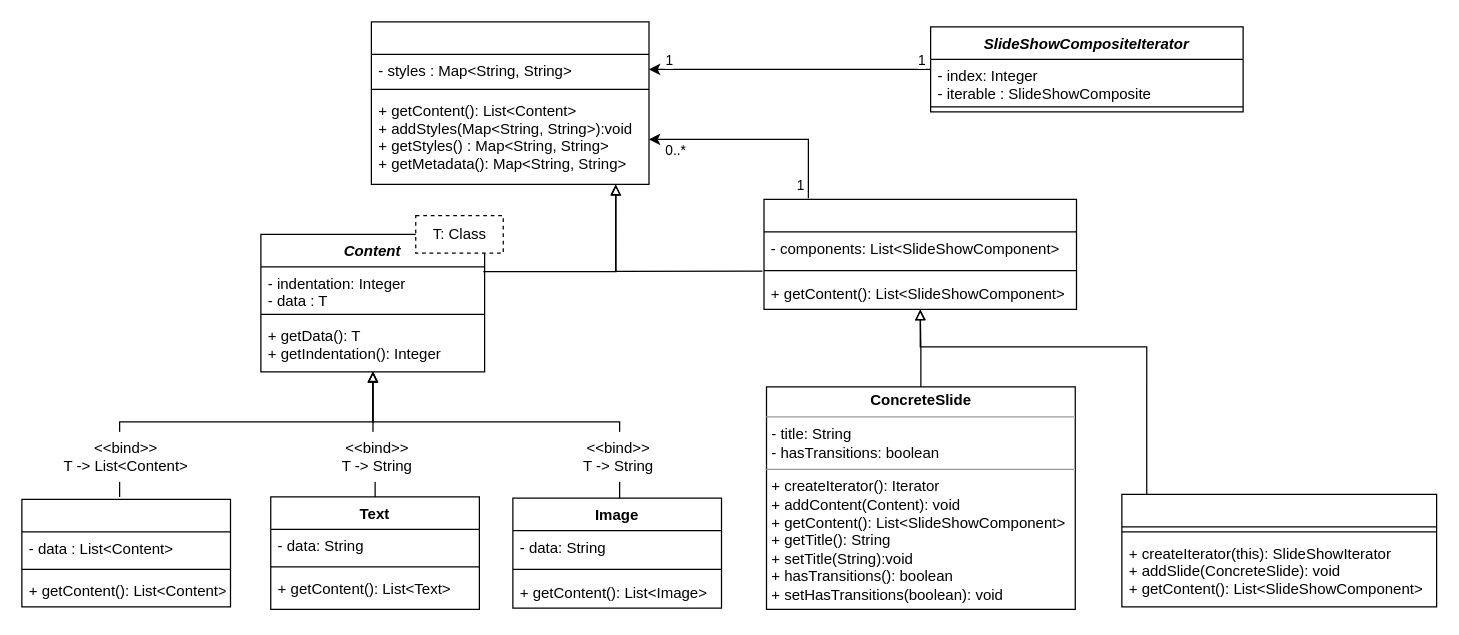
Image size: 1459x635. Some labels were removed from this diagram. The box of each missing label's shape, as (x1, y1, x2, y2) in pixels:
ConcreteSlideShow: (1121, 493, 1437, 607)
ContentComposite: (21, 498, 230, 607)
SlideShowComponent: (370, 21, 649, 184)
SlideShowComposite: (763, 198, 1076, 309)
